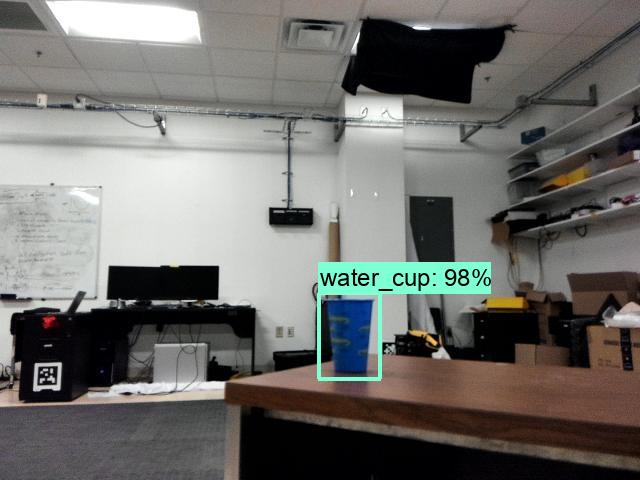water_cup: (319, 295, 384, 380)
